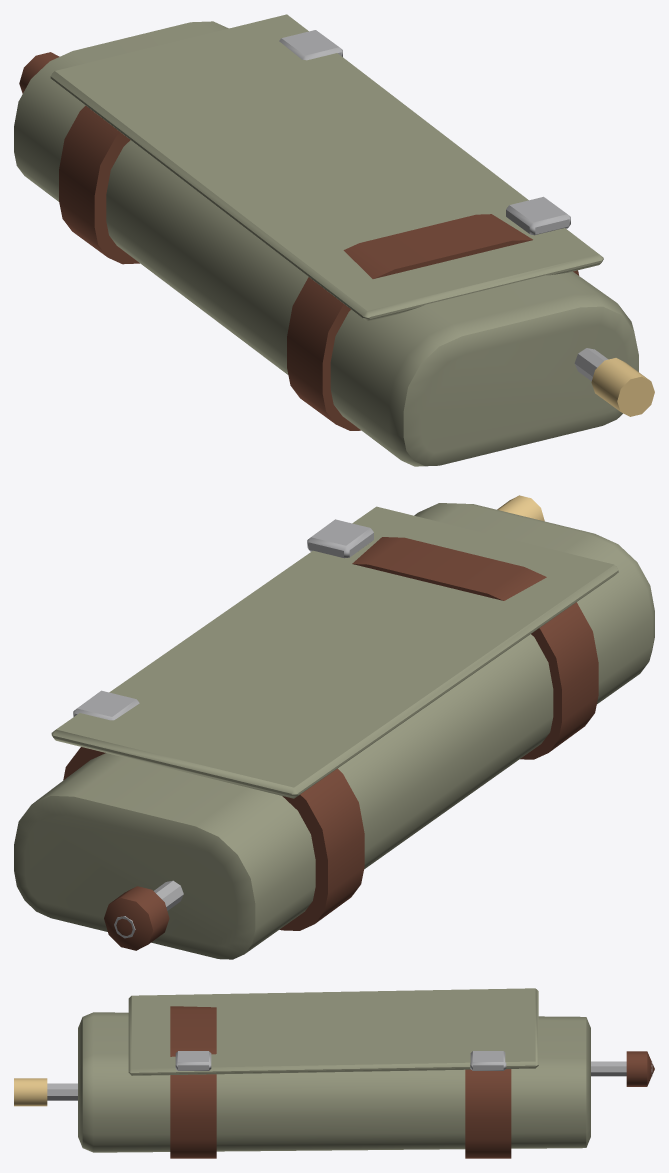
Rendered from cleaning_kit.glb.
The picture shows the model from 3 angles, top to bottom: view 1: azimuth 30°, elevation 25°; view 2: azimuth 150°, elevation 25°; view 3: azimuth 270°, elevation 25°; orthographic projection. The views are drawn at different scales.
Visible parts, largest first — view 1: body; view 2: body; view 3: body.
Boxes of the visible parts, x1=… form: body: x1=14, y1=14, x2=654, y2=466; body: x1=14, y1=495, x2=654, y2=959; body: x1=14, y1=988, x2=654, y2=1158.
Bounding box in the file's own units: 0.076 × 0.045 × 0.25.
